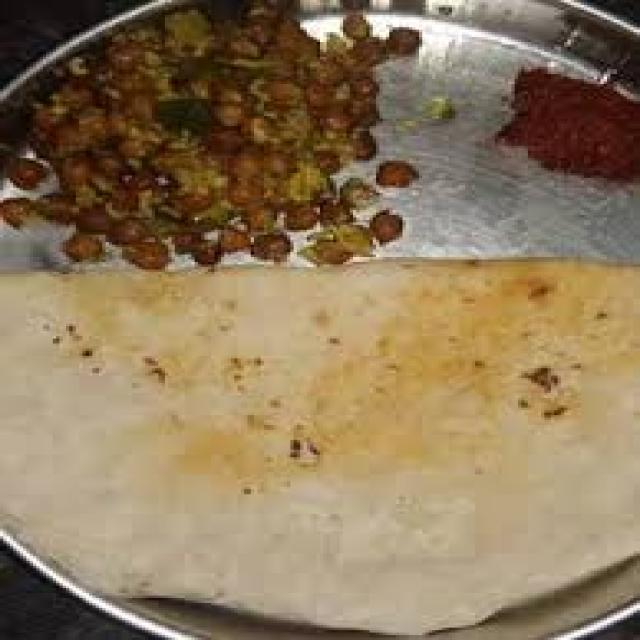ROTI: (0, 255, 637, 633)
